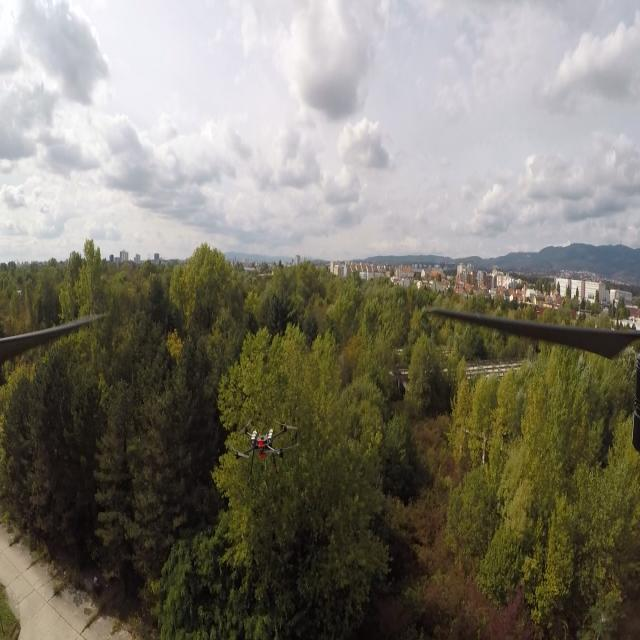UAV: (228, 413, 300, 487)
